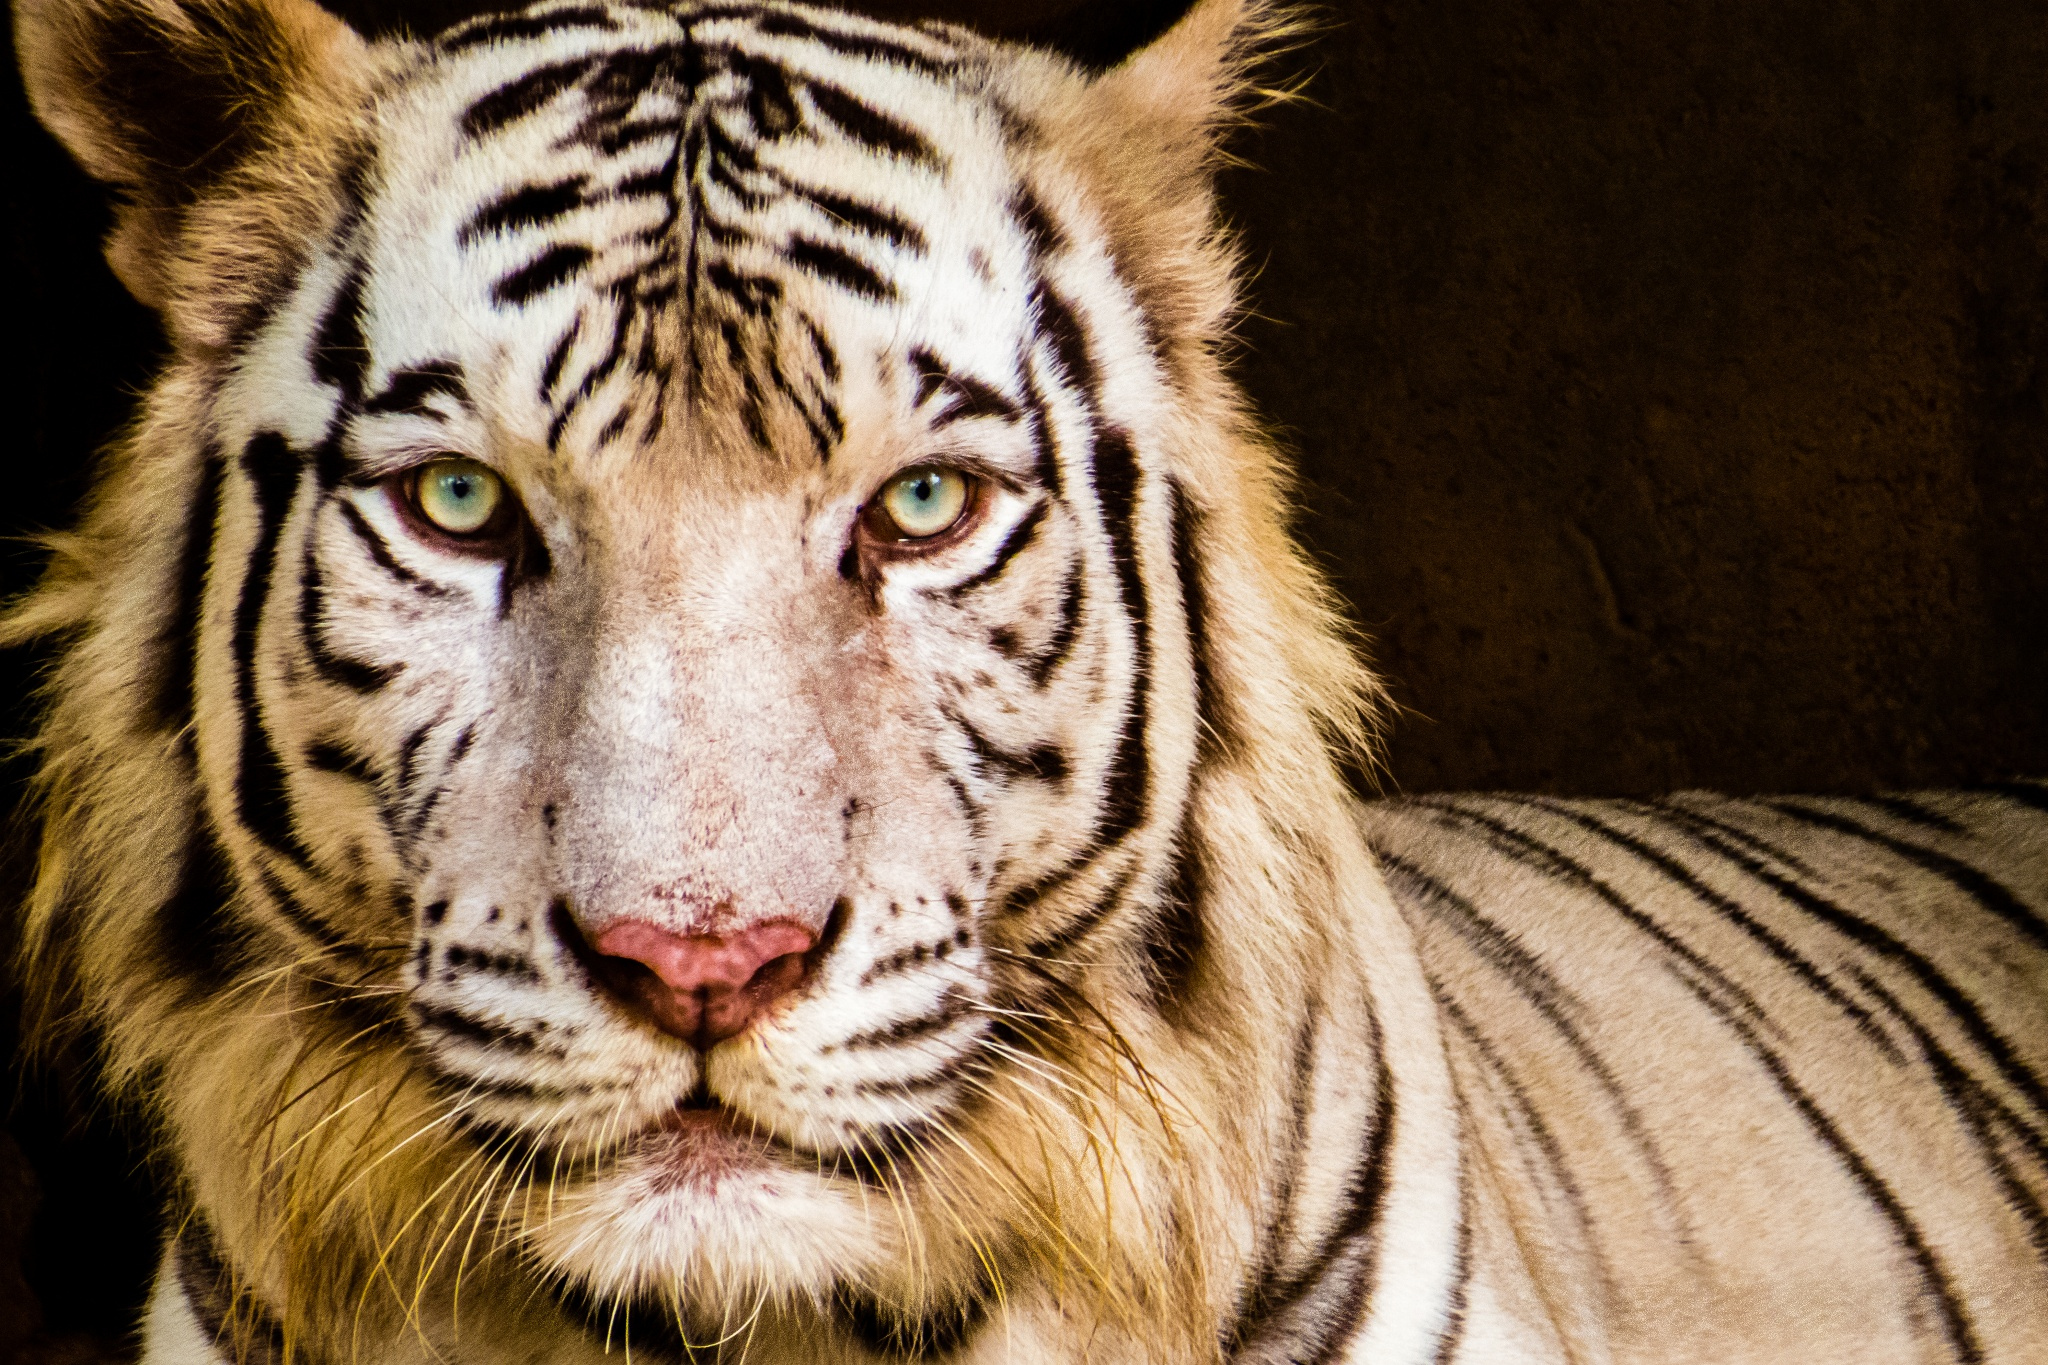tiger: (73, 17, 1922, 1299)
